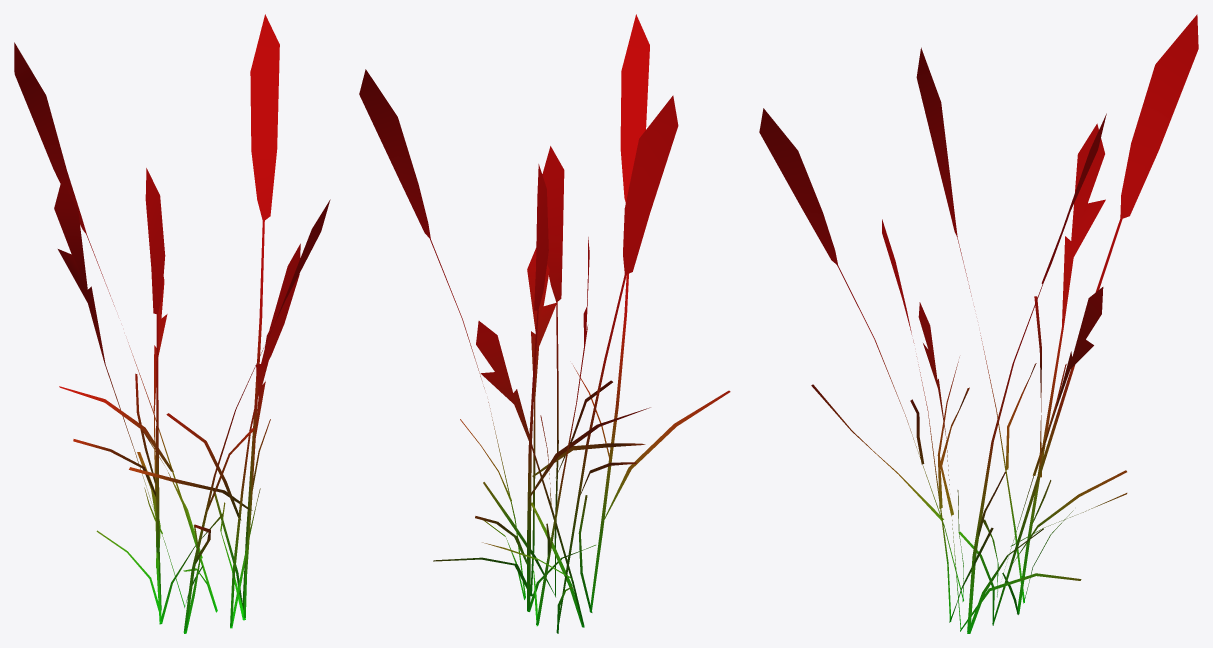
File: Tundra Grass_LOD6_Var19_wk2oaeyqx.fbx
The picture shows the model from 3 angles, left to right: view 1: azimuth 30°, elevation 25°; view 2: azimuth 150°, elevation 25°; view 3: azimuth 270°, elevation 25°; orthographic projection. The views are drawn at different scales.
Visible parts, largest first — view 1: _9eqo_Var19_LOD6; view 2: _9eqo_Var19_LOD6; view 3: _9eqo_Var19_LOD6.
Boxes of the visible parts, bbox=[...] form: _9eqo_Var19_LOD6: bbox=[14, 14, 330, 633]; _9eqo_Var19_LOD6: bbox=[359, 14, 730, 633]; _9eqo_Var19_LOD6: bbox=[759, 14, 1198, 633].
Bounding box in the file's own units: 28.34 × 57.86 × 40.68.
